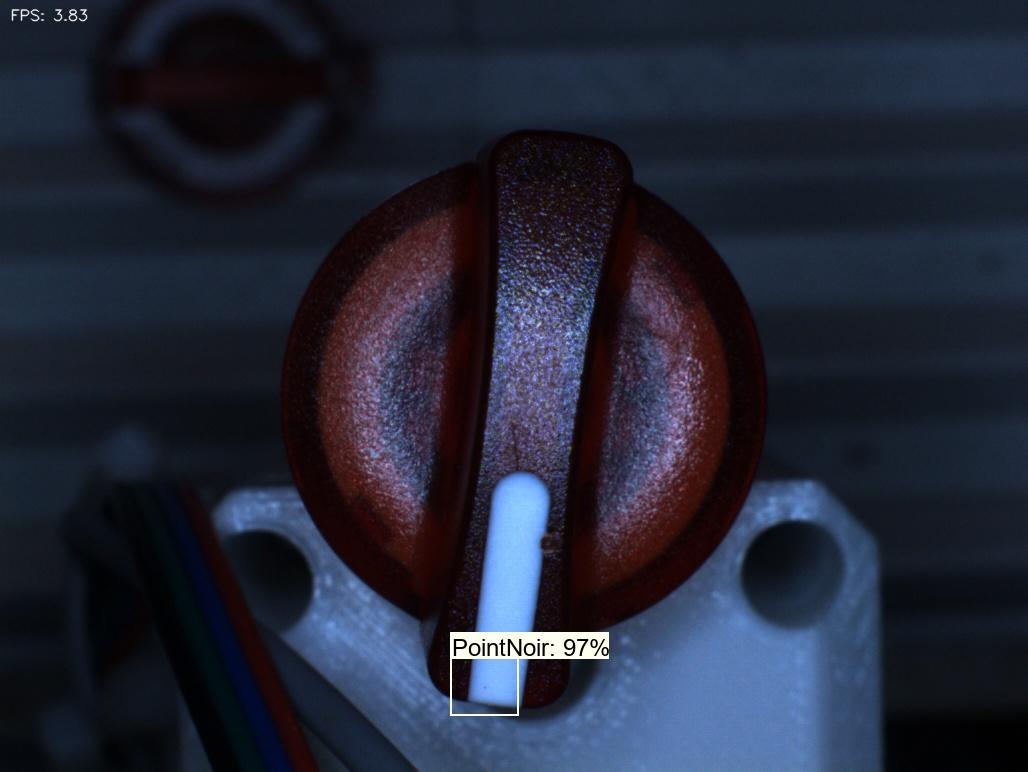Choc: (508, 495, 597, 588)
